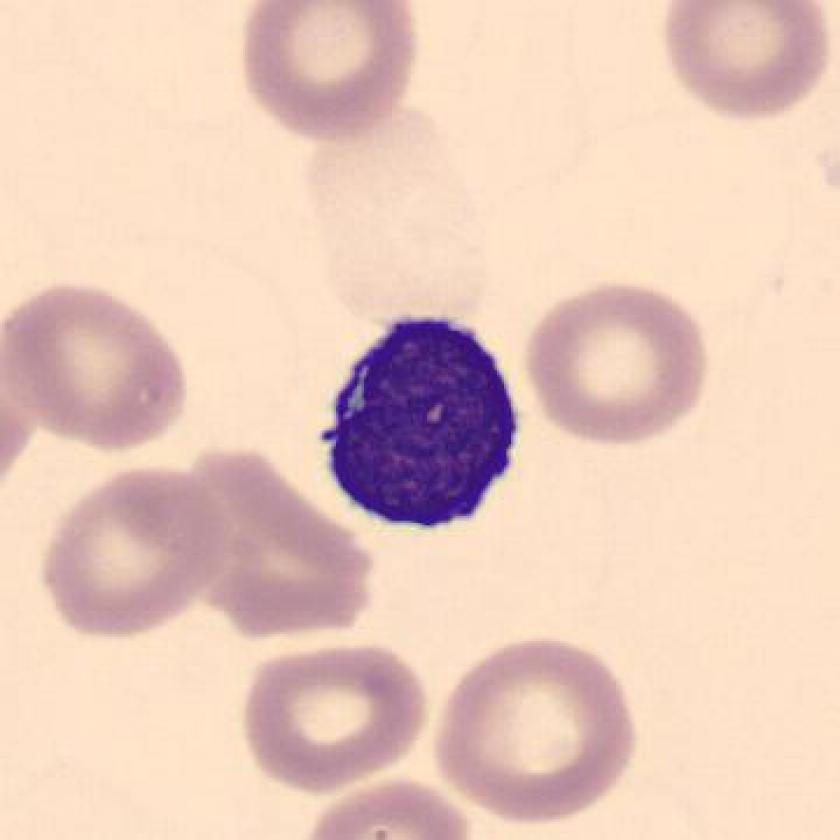lymphocyte: (304, 297, 533, 552)
